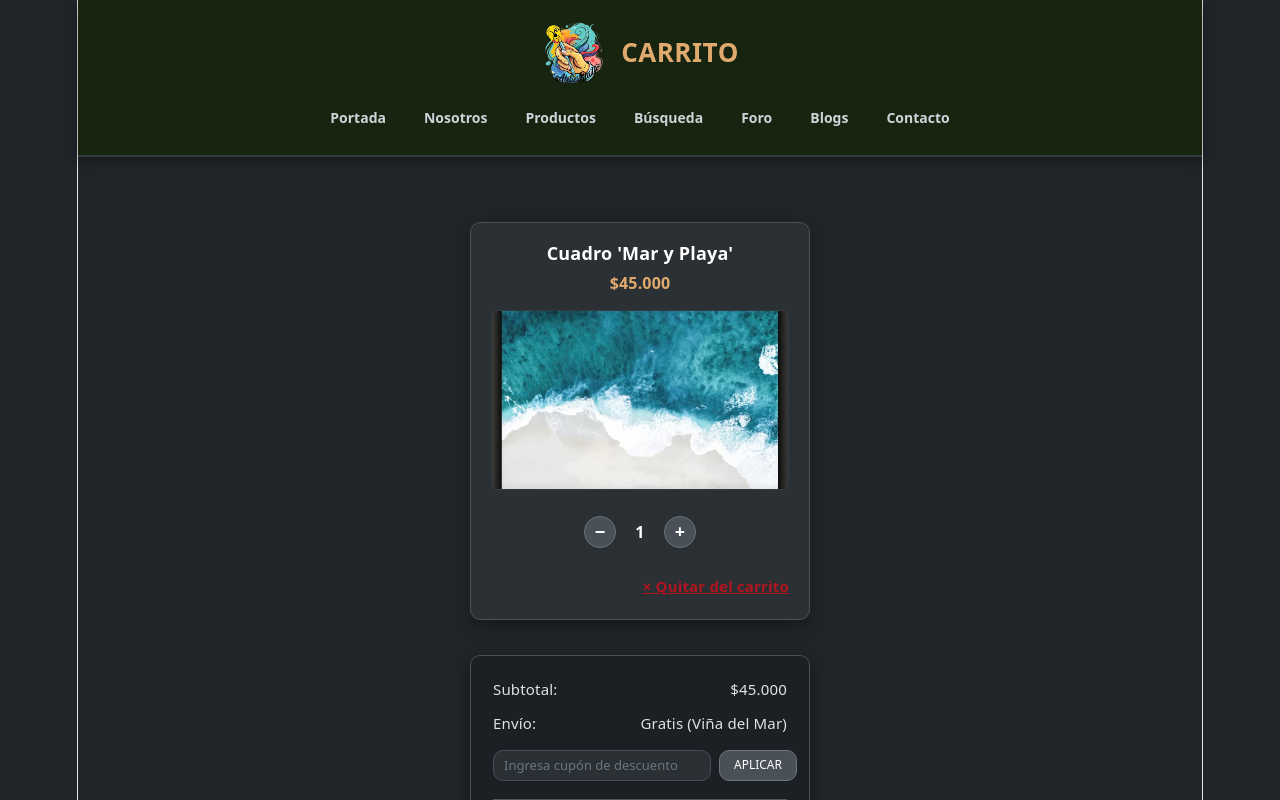
Test case: Pruebas Unitarias: Componente Carrito › CP-CAR-03: Con sesión activa, debe permitir sumar, restar y quitar productos del carrito
The width and height of the screenshot is (1280, 800).
Note: Sumar unidad
Click the button "+" at (680, 532), box [664, 516, 696, 548]
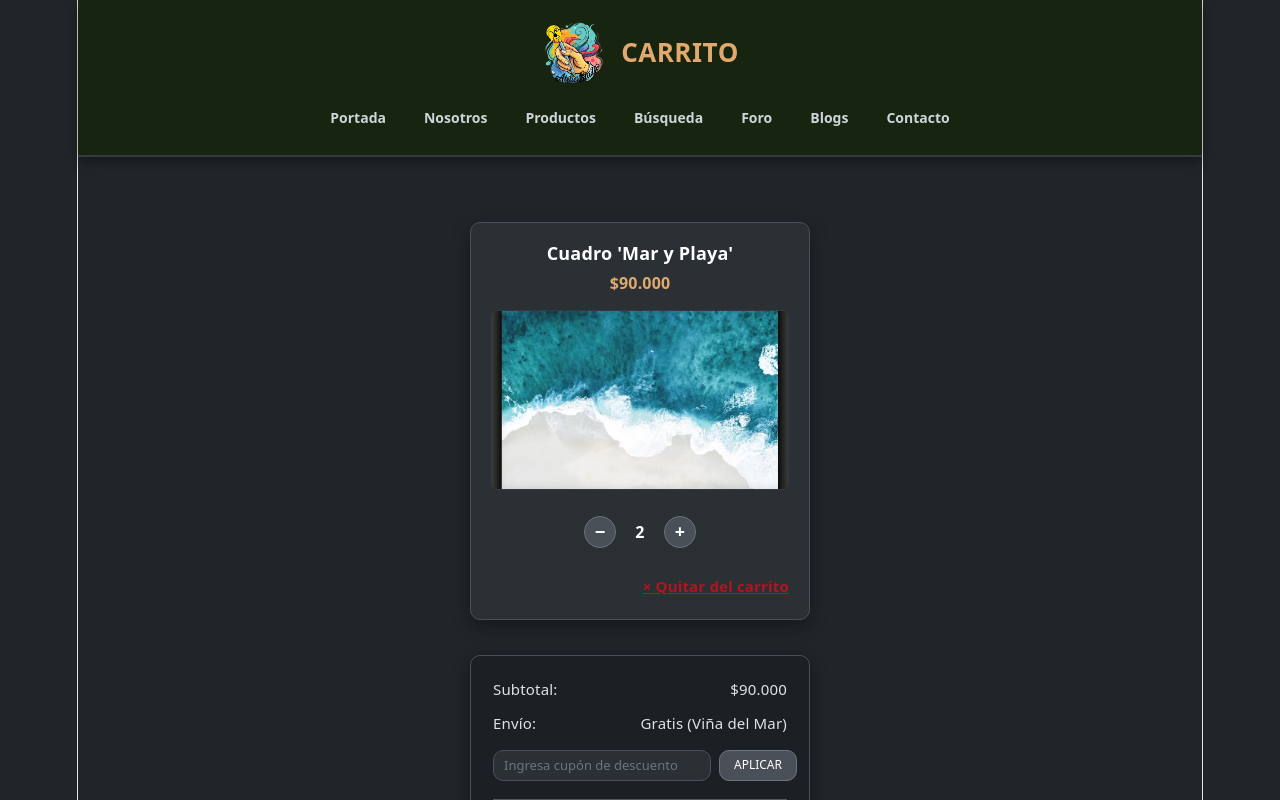
Note: Restar unidad
Click the button "−" at (600, 532), box [584, 516, 616, 548]
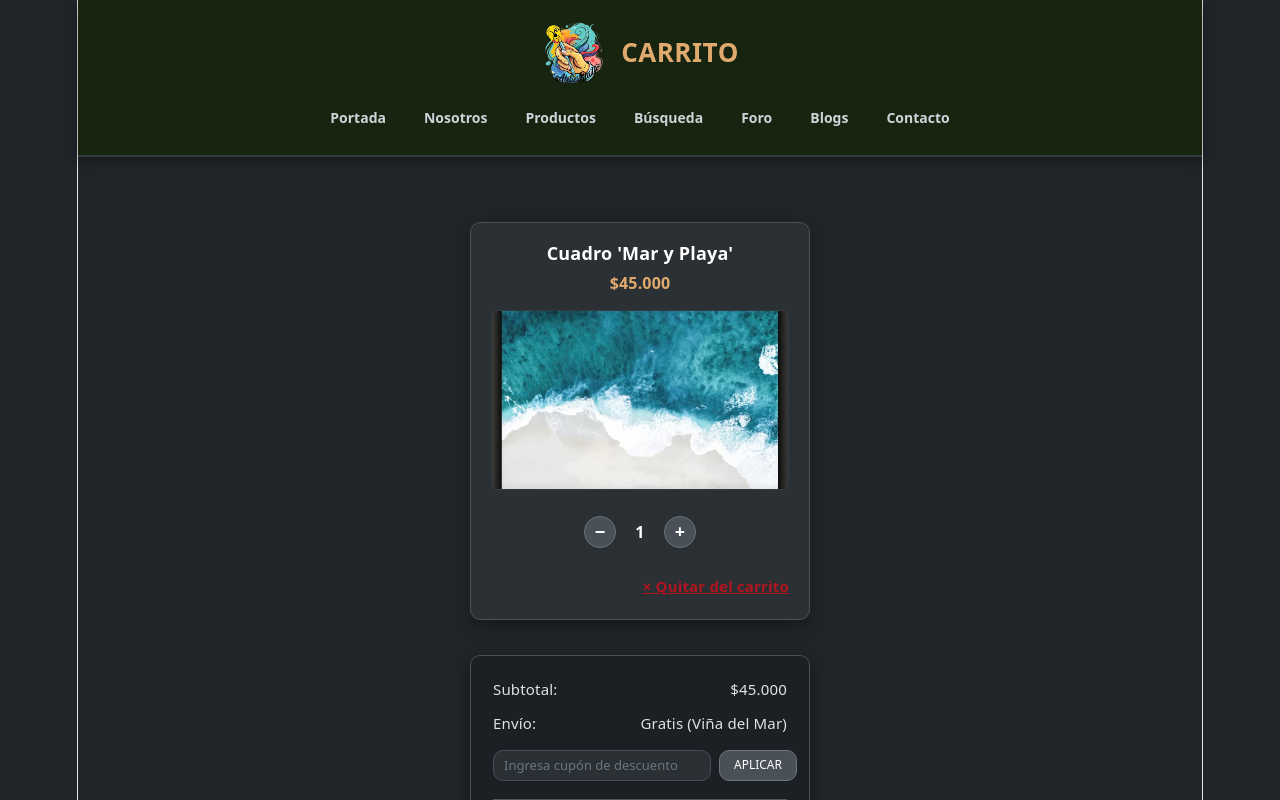
Note: Quitar del carrito
Click the link "× Quitar del carrito" at (716, 586), box [643, 576, 789, 596]
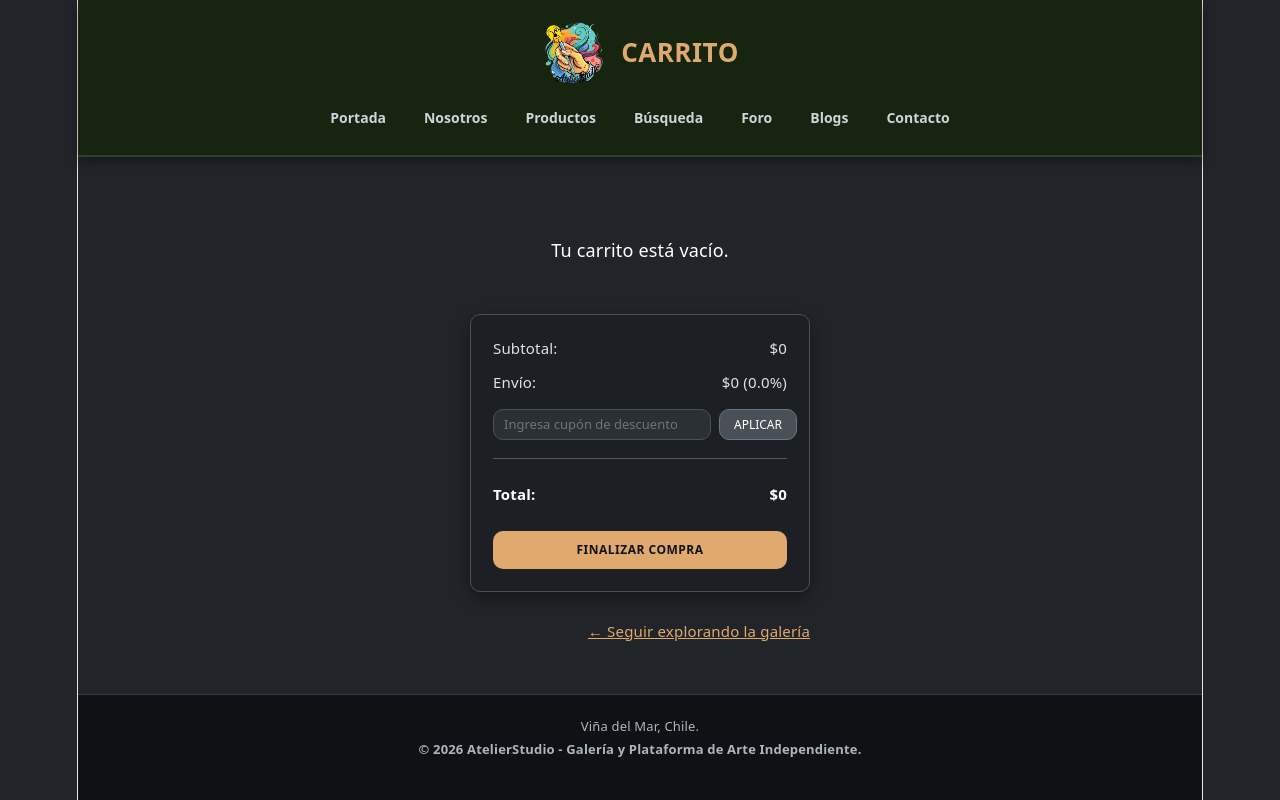
Check: the text "Tu carrito está vacío." is shown, box [551, 237, 729, 264]
